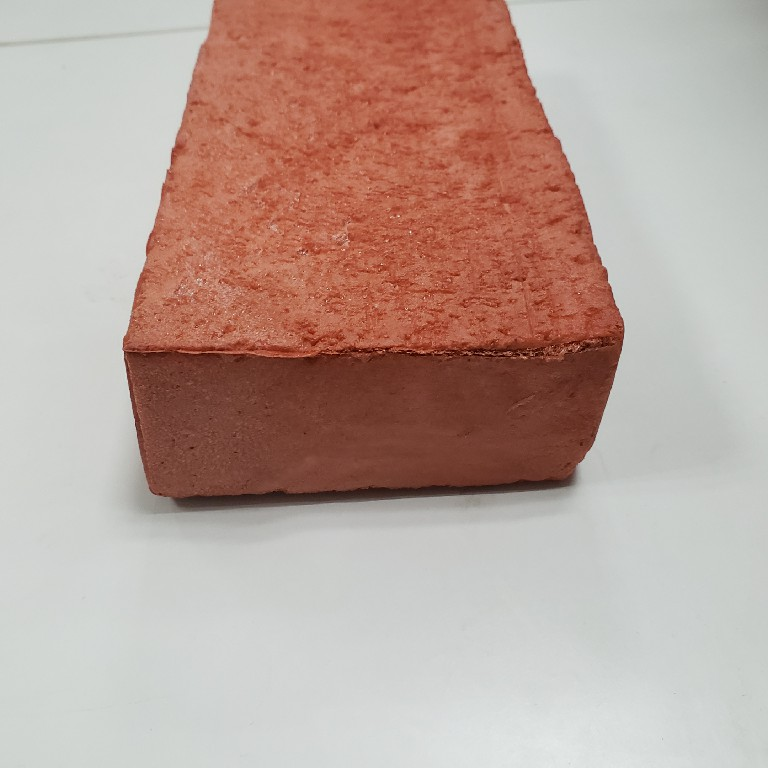brick: (114, 1, 636, 509)
